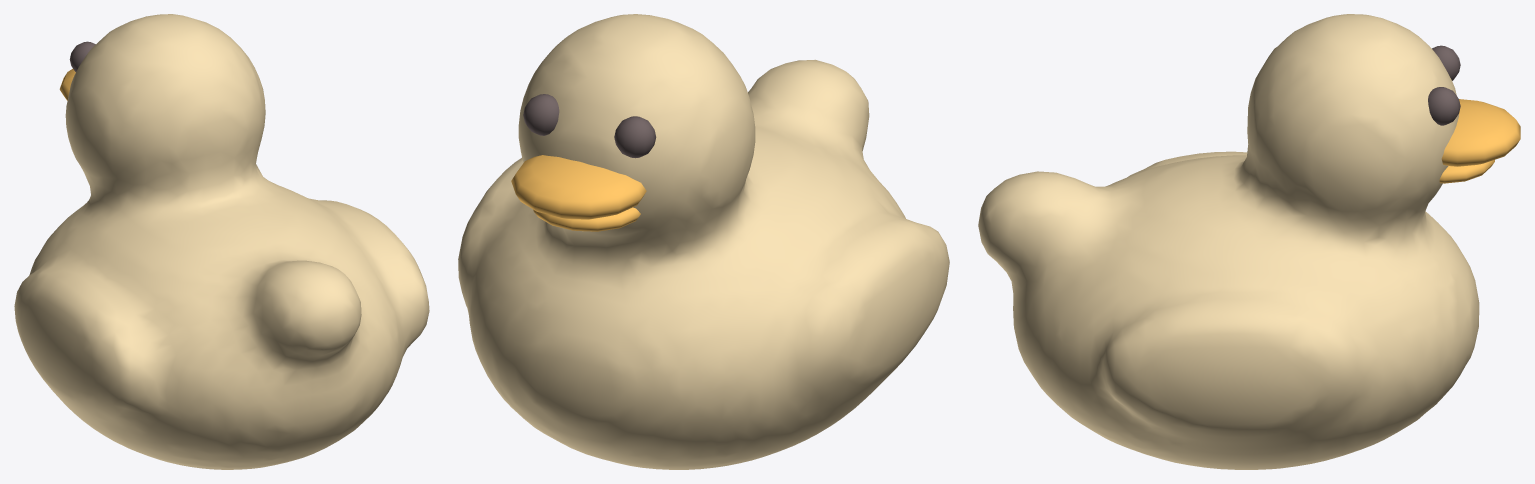
Rendered from MessyMemoryDuck.glb.
3 renders of one model, left to right at view 1: azimuth 30°, elevation 25°; view 2: azimuth 150°, elevation 25°; view 3: azimuth 270°, elevation 25°, orthographic. The views are drawn at different scales.
Visible parts, largest first — view 1: Body; view 2: Body, Beak, Face; view 3: Body, Beak, Face.
Boxes of the visible parts, box(x1,y1,x2,y2) form: Body: box(14, 14, 429, 469); Body: box(458, 14, 949, 469); Beak: box(511, 155, 646, 231); Face: box(523, 94, 656, 158); Body: box(978, 14, 1479, 469); Beak: box(1439, 99, 1520, 183); Face: box(1428, 45, 1460, 125).
Bounding box in the file's own units: 1.34 × 1.43 × 1.67.
